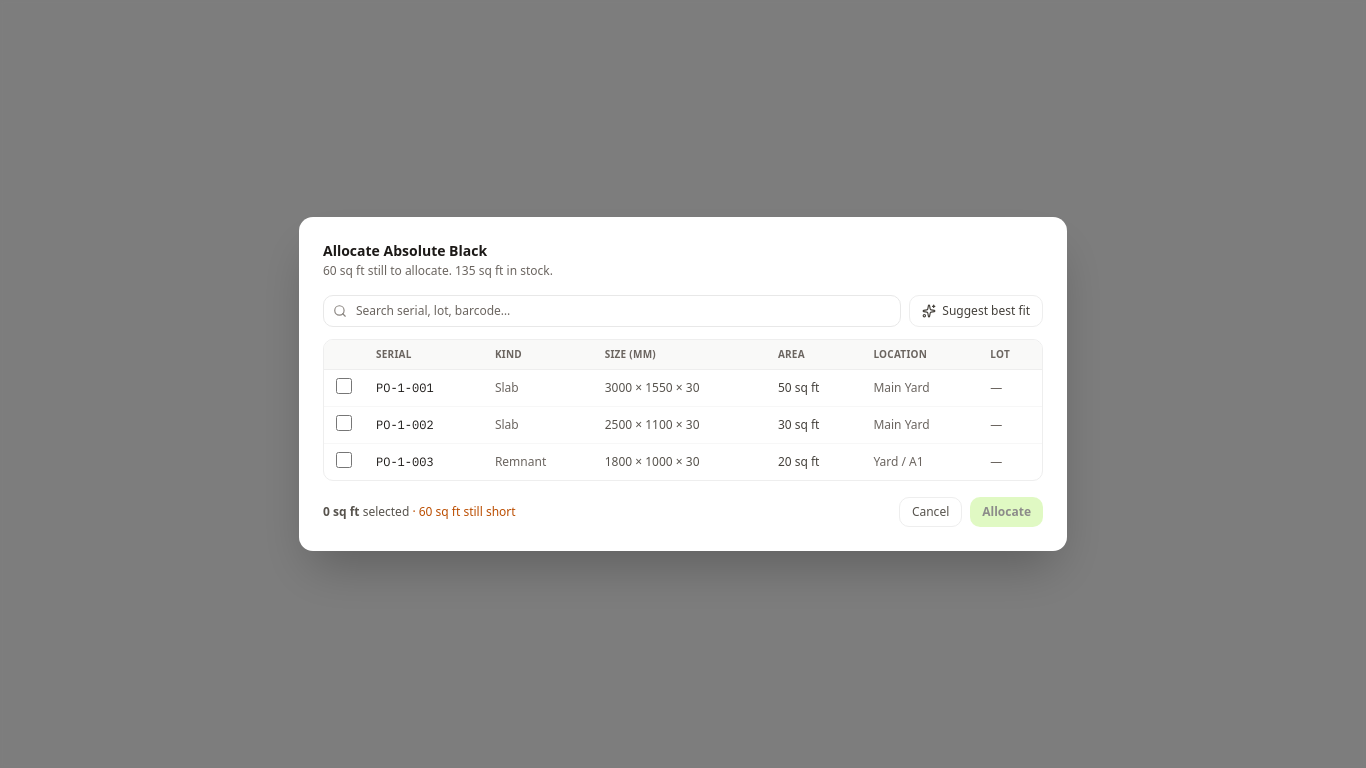
Scenario: AllocateSlabsDialog › keeps what was allocated, and the rest selected, when one slab is refused part-way
Click the checkbox named "Select PO-1-001" at x=344, y=386, box [336,378,352,394]
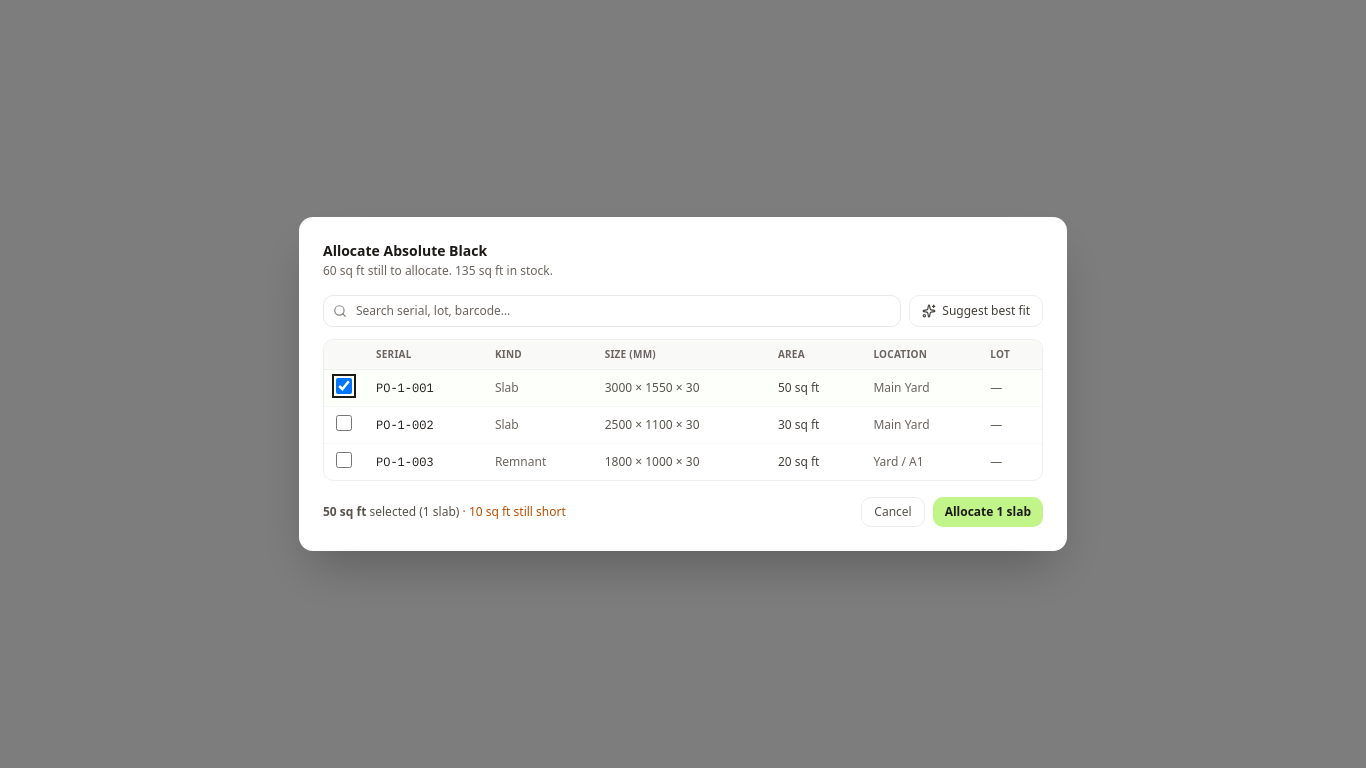
Click the checkbox named "Select PO-1-002" at x=344, y=423, box [336,415,352,431]
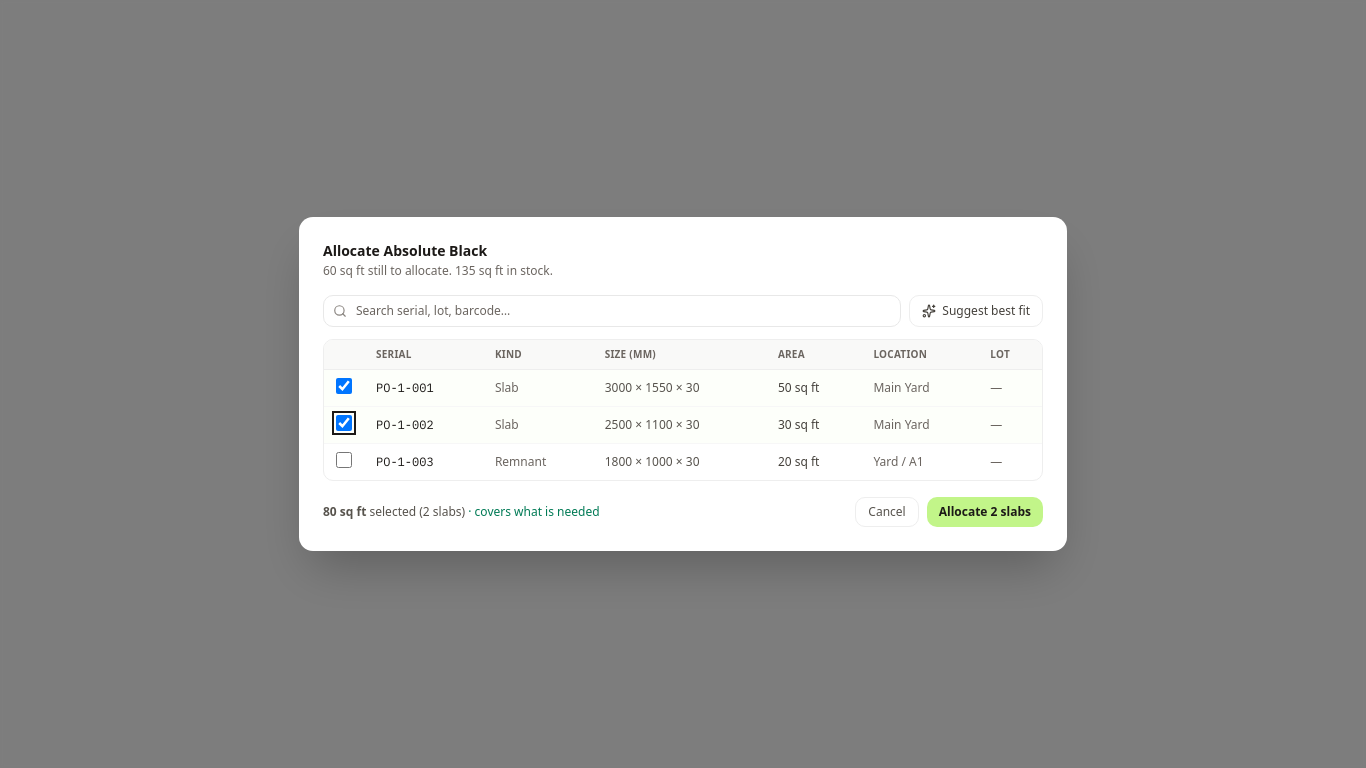
Click the checkbox named "Select PO-1-003" at x=344, y=460, box [336,452,352,468]
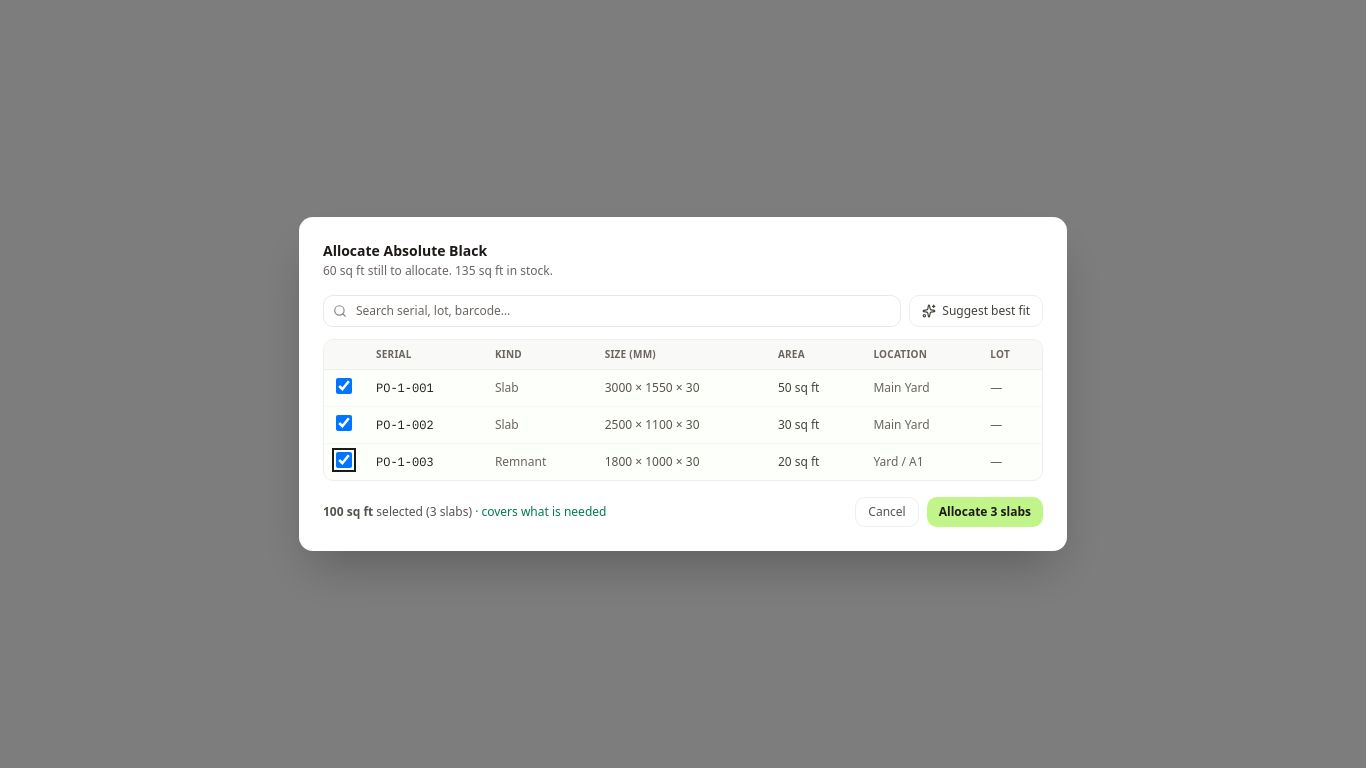
Click the button "Allocate 3 slabs" at x=985, y=512, box [927,497,1043,527]
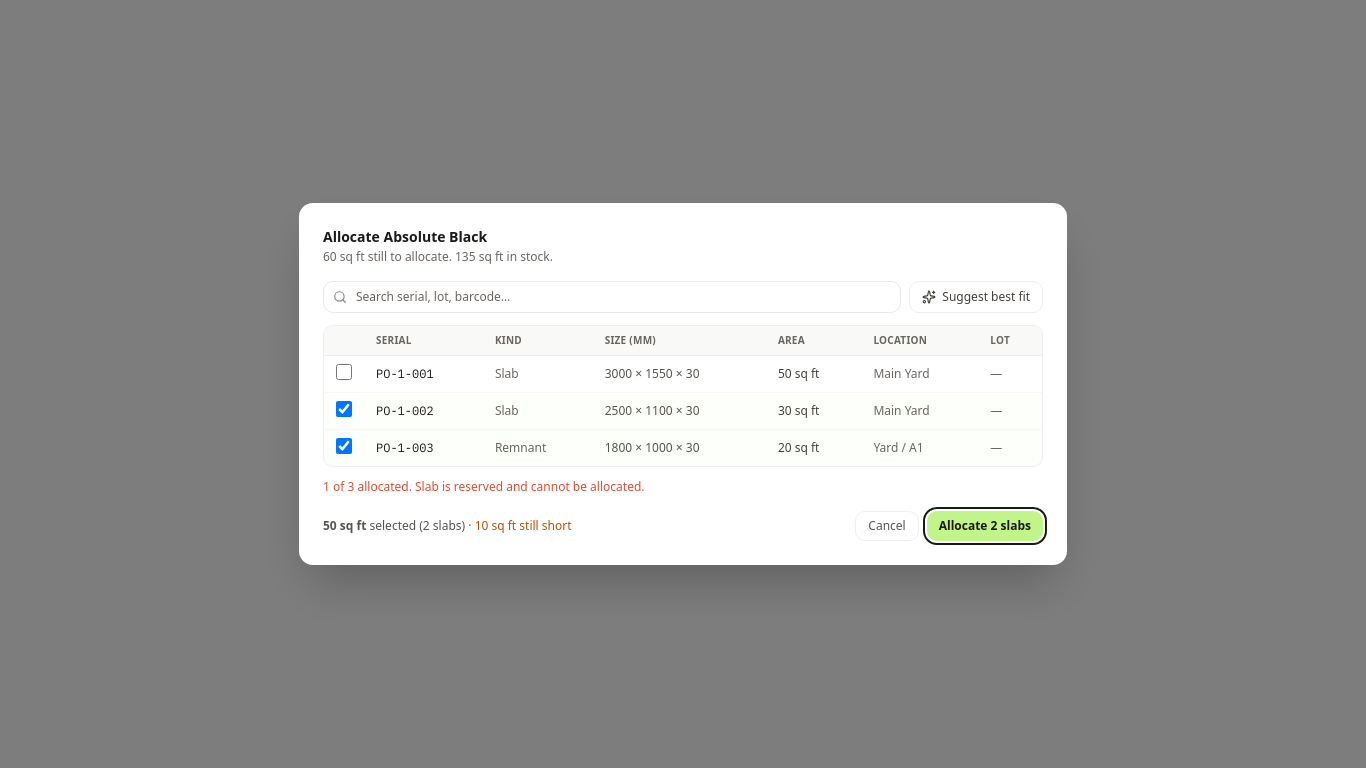
Expected: the checkbox named "Select PO-1-001" is not checked, [336,364,352,380]
Expected: the checkbox named "Select PO-1-002" is checked, [336,401,352,417]
Expected: the message reads "1 of 3 allocated. Slab is reserved and cannot be allocated.", [323,478,644,495]
